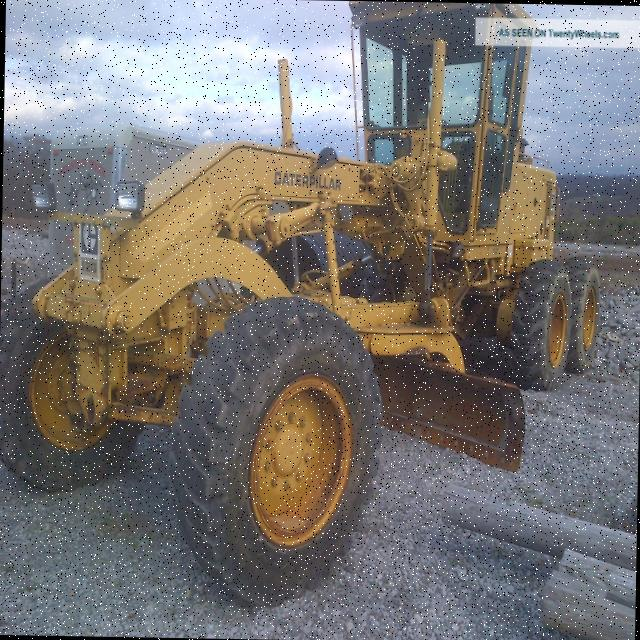Grader: (0, 0, 606, 601)
